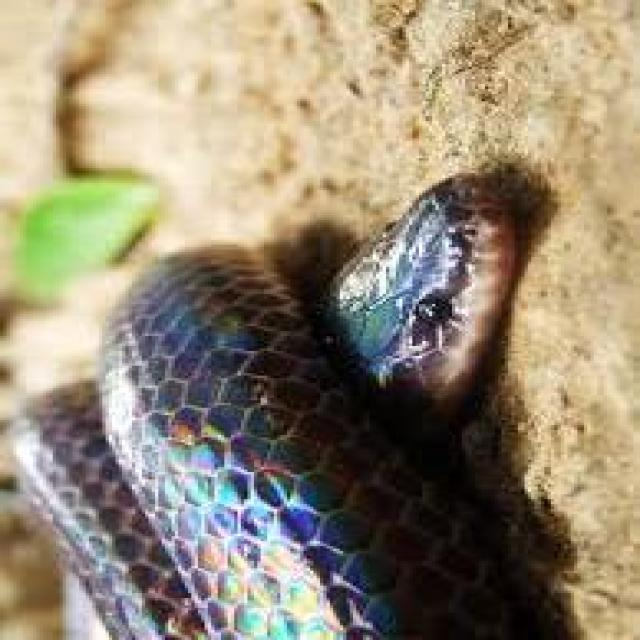Non-Venomous: (305, 140, 560, 438)
